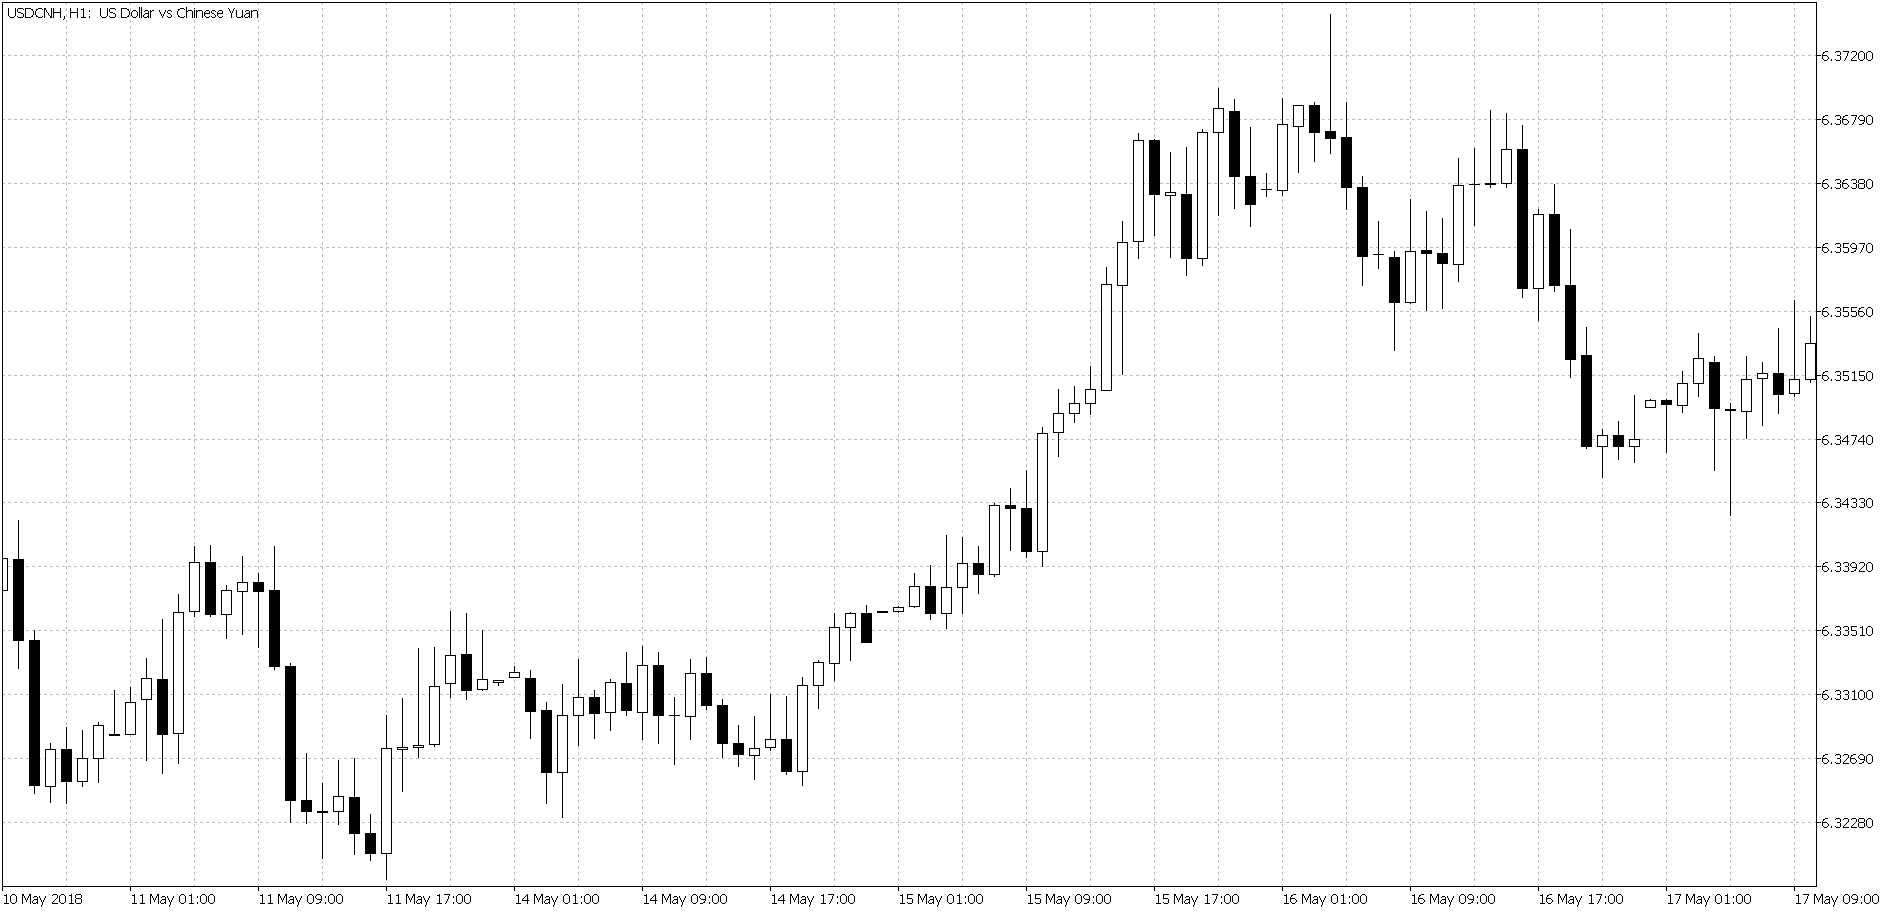bullishEngulfing: (362, 728, 396, 878)
morningDojiStar: (651, 634, 698, 769)
